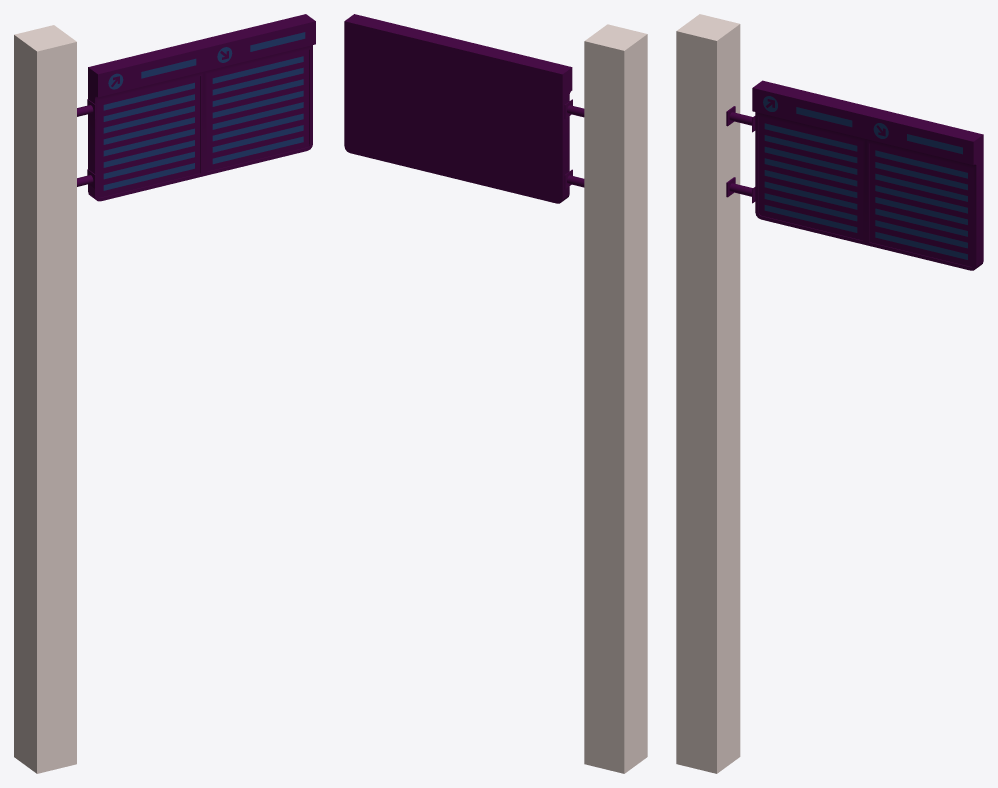
File: PillarIjoFixed.fbx
3 views of the same model, side by side, from view 1: azimuth 30°, elevation 25°; view 2: azimuth 150°, elevation 25°; view 3: azimuth 330°, elevation 25° (orthographic).
Parts seen in each view (by area): view 1: Signage03.001; view 2: Signage03.001; view 3: Signage03.001.
Boxes of the visible parts, bbox=[...] form: Signage03.001: bbox=[14, 14, 315, 773]; Signage03.001: bbox=[344, 14, 647, 773]; Signage03.001: bbox=[676, 14, 983, 773].
Bounding box in the file's own units: 7.3 × 17.63 × 1.02.
